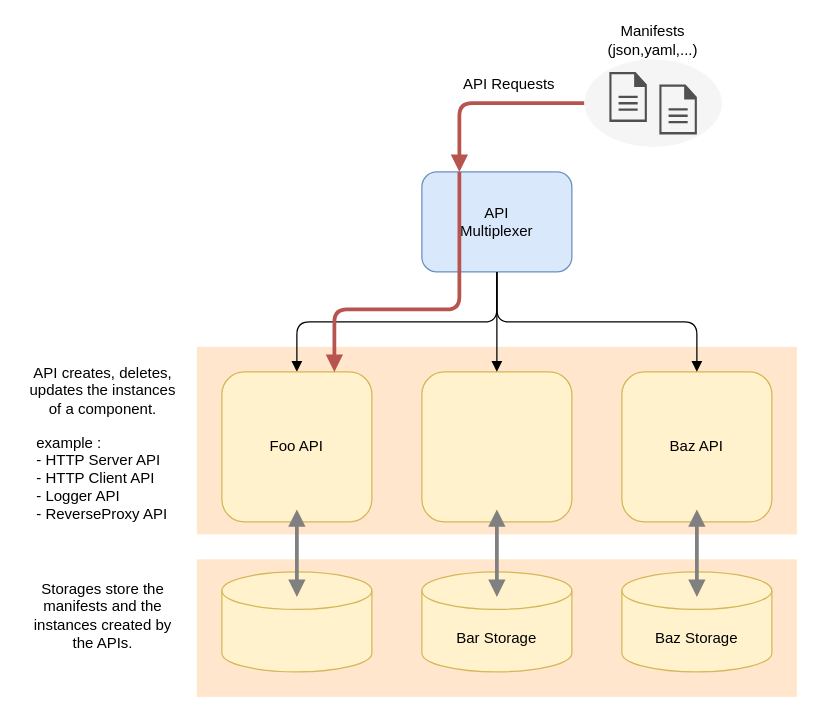
This 818x718 diagram has some shape labels left out. Each missing label, with the centre of its shape:
"Bar API" goes at point (496, 446).
"Foo Storage" goes at point (296, 621).
